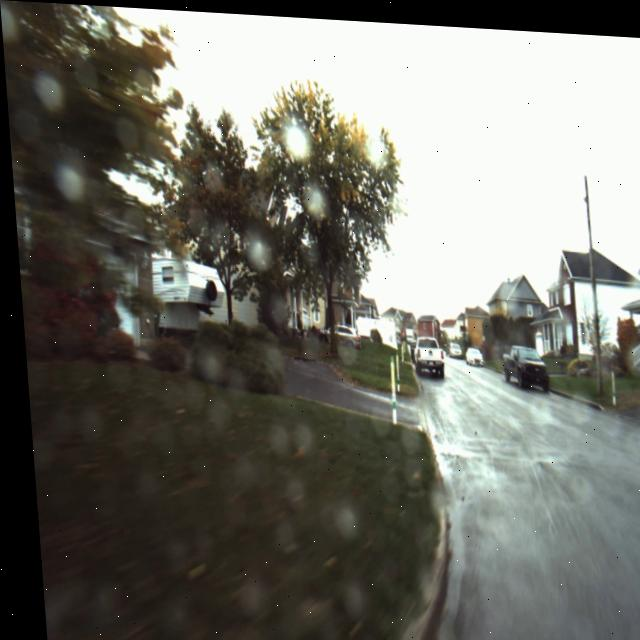car: (404, 324, 445, 373)
